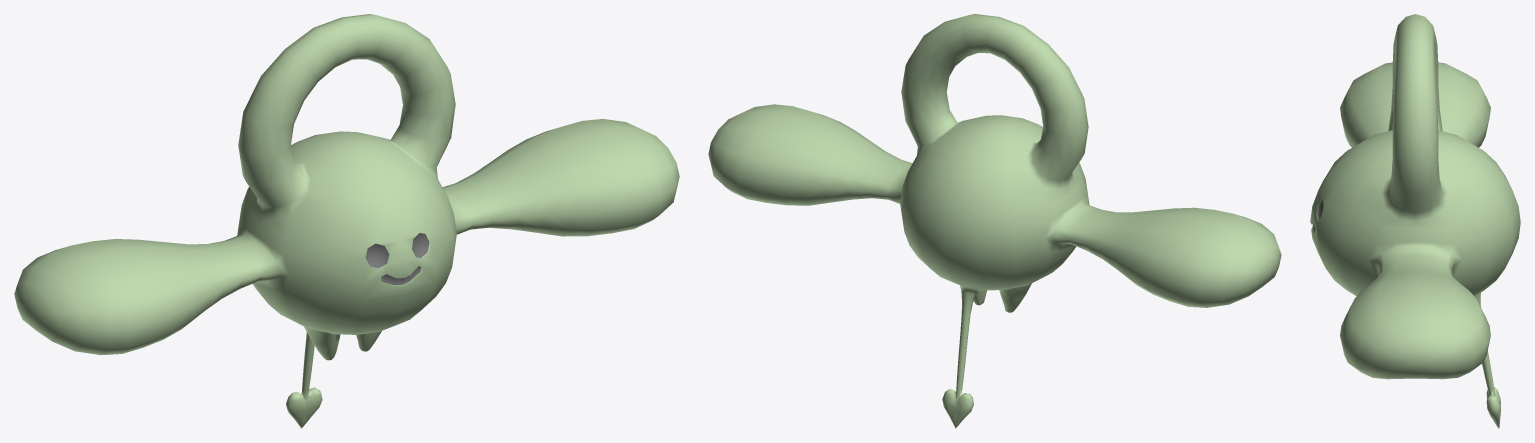
File: pipi kari.fbx
The picture shows the model from 3 angles, left to right: view 1: azimuth 30°, elevation 25°; view 2: azimuth 150°, elevation 25°; view 3: azimuth 270°, elevation 25°; orthographic projection. The views are drawn at different scales.
Parts seen in each view (by area): view 1: polySurface11; view 2: polySurface11; view 3: polySurface11.
Boxes of the visible parts, <box> form: polySurface11: <box>14,14,679,428</box>; polySurface11: <box>708,14,1281,428</box>; polySurface11: <box>1310,14,1520,428</box>.
Bounding box in the file's own units: 28 × 18.61 × 8.76.
